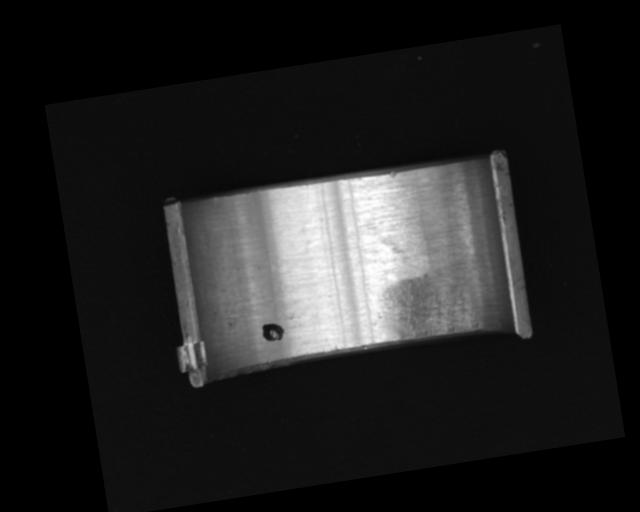blot: (260, 321, 286, 344)
bruise: (388, 169, 398, 179)
scratch: (370, 264, 486, 345)
